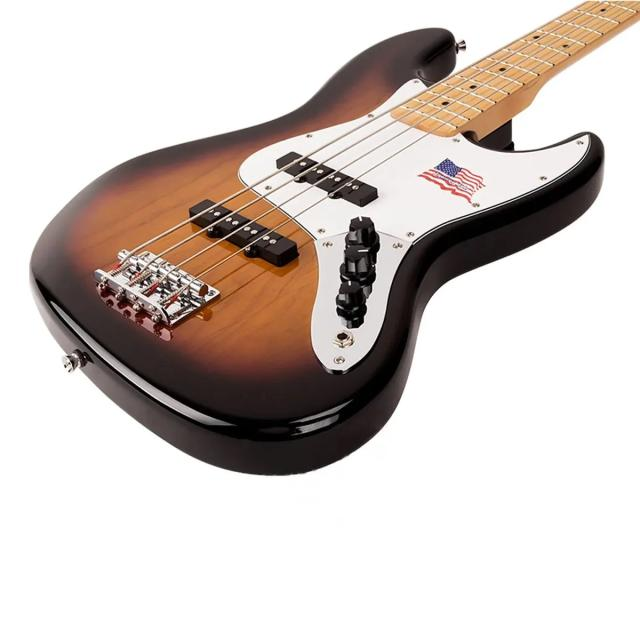bass: (30, 0, 639, 474)
